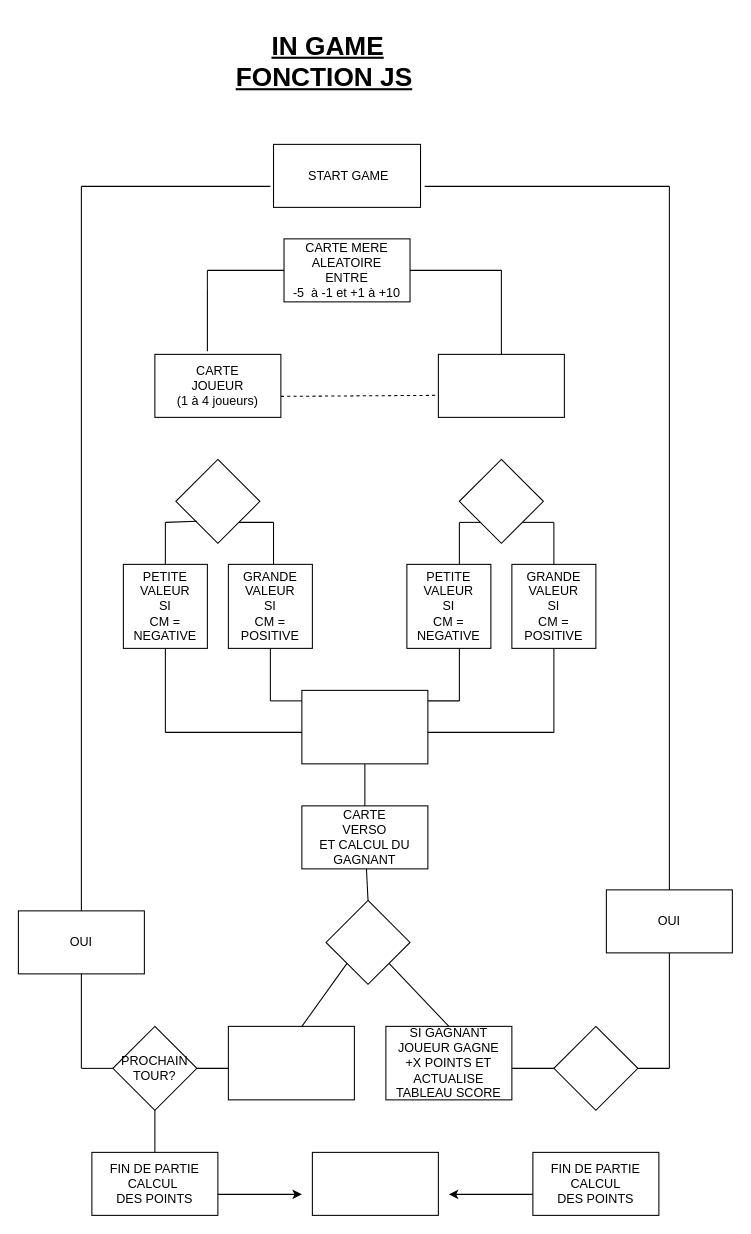
Image size: 751x1234. Some labels were removed from this diagram. The shapes that lost their labels are listed below. From the top down, each one's box as (x1, y1, x2, y2) in pixels, then its label:
(437, 353, 564, 417): CARTE IA (1 à 3 bot)
(301, 689, 428, 764): CARTE RECTO JUSQU'A JOUEURS TERMINENT LEUR TOUR
(227, 1025, 354, 1100): SI ÉGALITÉ CARTE MERE + CARTE MERE DU PROCHAIN TOUR
(553, 1025, 638, 1110): PROCHAIN TOUR ?
(311, 1151, 438, 1215): TABLEAU DES SCORES
